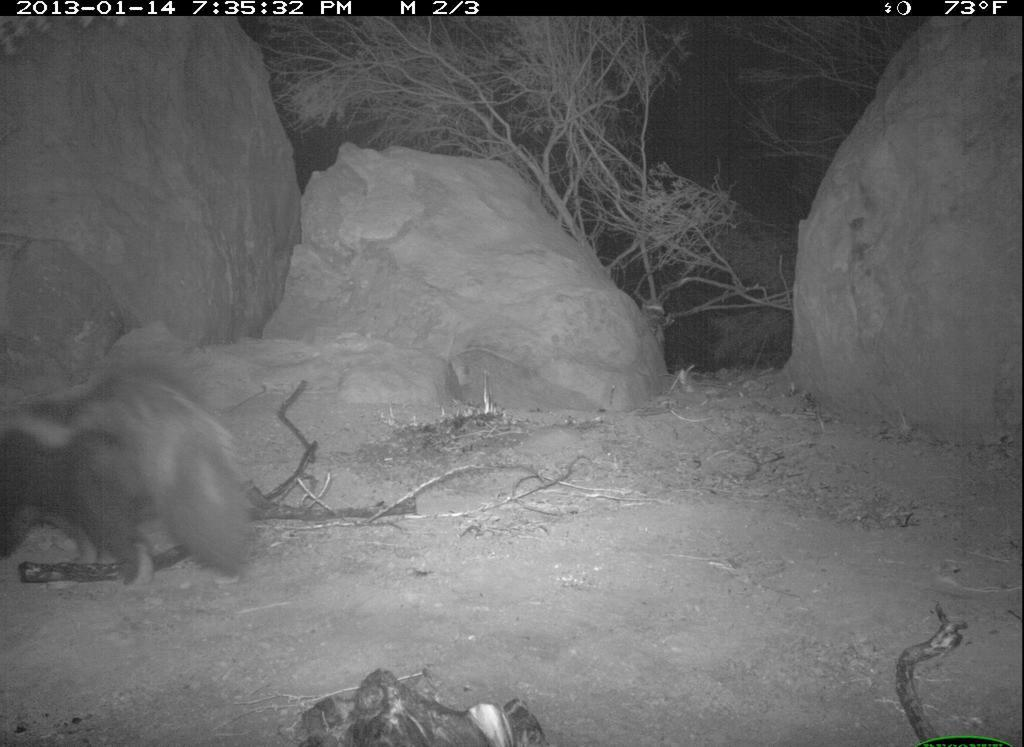skunk: (2, 367, 257, 585)
